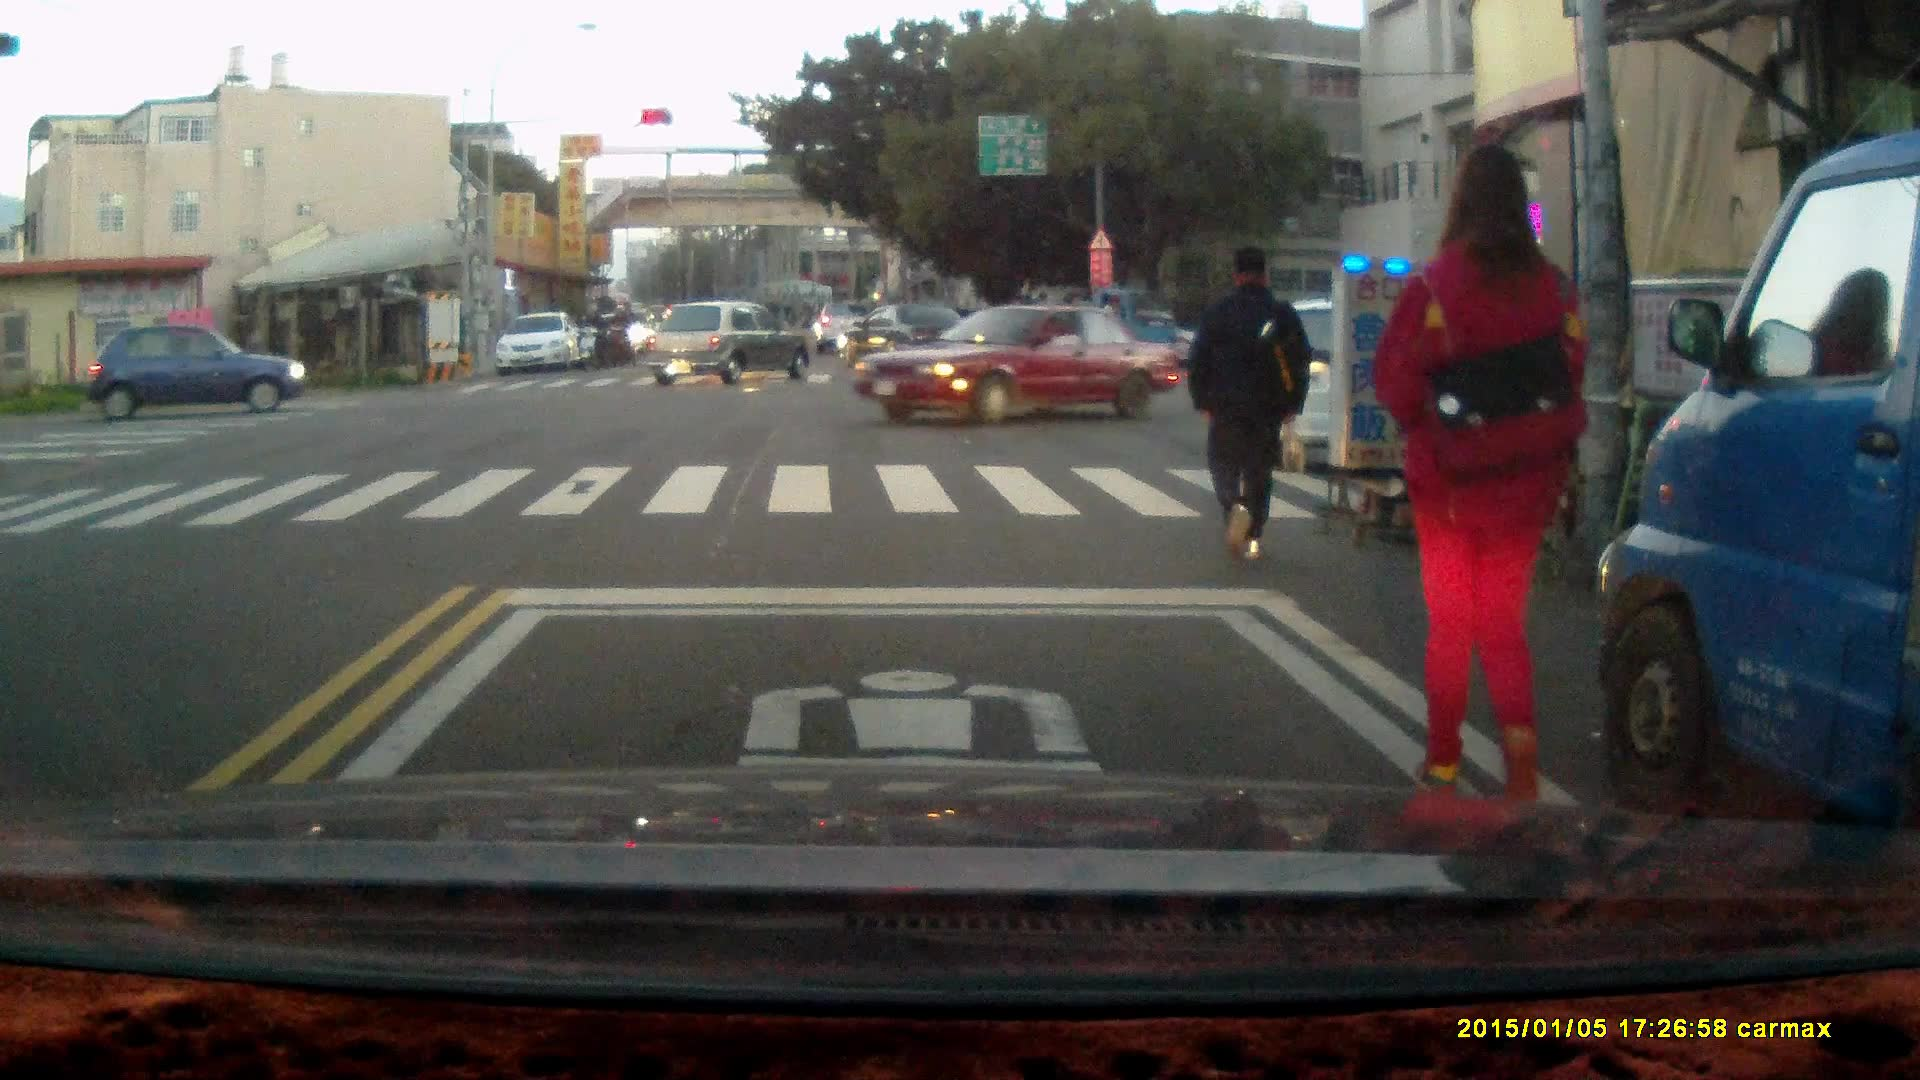pedestrian: (1377, 132, 1599, 793), (1182, 243, 1315, 566)
rider: (575, 302, 607, 369), (603, 302, 632, 362)
vehicle: (1598, 132, 1920, 858), (1233, 296, 1533, 459), (862, 302, 1179, 424), (85, 323, 309, 424), (1002, 284, 1190, 367), (642, 302, 814, 388), (498, 313, 586, 377)
